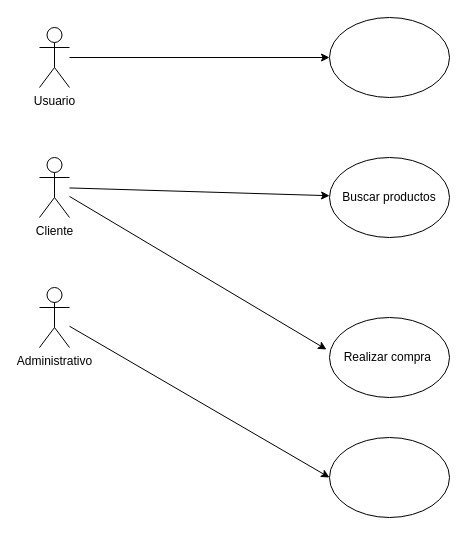
Image size: 467x535. Some labels were removed from this diagram. Each missing label, with the centre of its shape:
"Dado de alta" belongs at [389,57].
"Insertar productos" belongs at [389,477].
